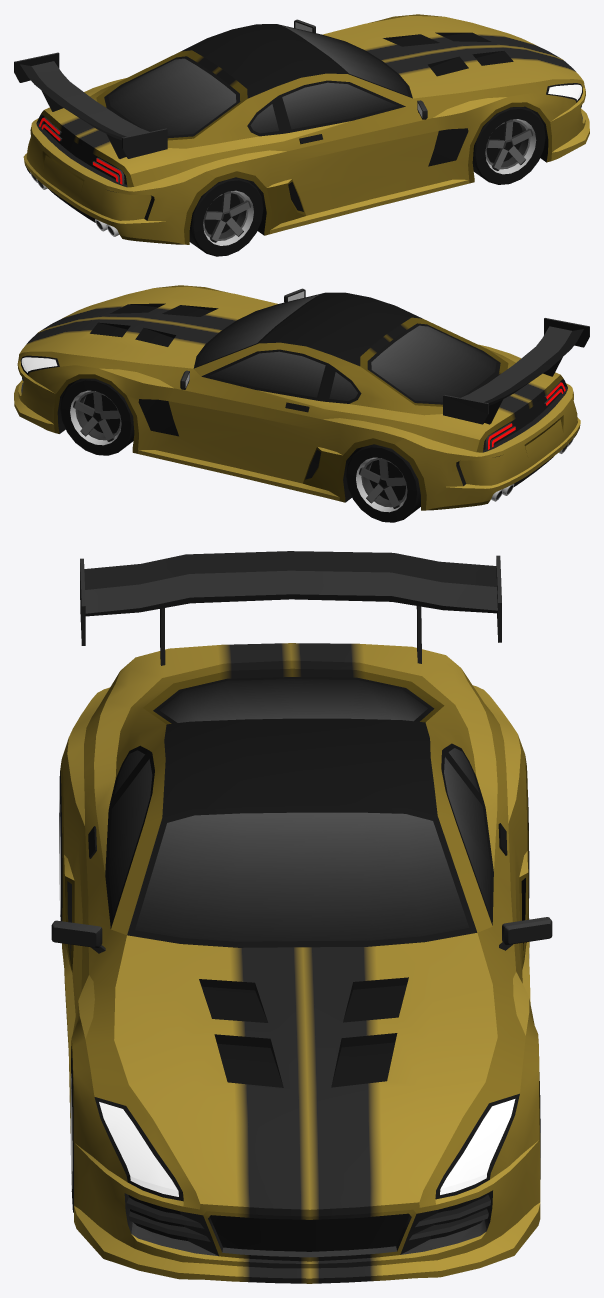
File: RaceCar_083.glb
3 views of the same model, one above another, from view 1: azimuth 30°, elevation 25°; view 2: azimuth 150°, elevation 25°; view 3: azimuth 270°, elevation 25° (orthographic). The views are drawn at different scales.
Parts seen in each view (by area): view 1: RaceCar_083, wheel_3_RaceCar_083_Wheel_3R, wheel_0_RaceCar_083_Wheel_1R; view 2: RaceCar_083, wheel_2_RaceCar_083_Wheel_3L, wheel_1_RaceCar_083_Wheel_2L; view 3: RaceCar_083.
Part boxes in pixels (box(x1,y1,x2,y2)): RaceCar_083: box(14, 14, 589, 244); wheel_3_RaceCar_083_Wheel_3R: box(189, 177, 263, 256); wheel_0_RaceCar_083_Wheel_1R: box(472, 106, 545, 184); RaceCar_083: box(14, 285, 589, 510); wheel_2_RaceCar_083_Wheel_3L: box(346, 444, 420, 522); wheel_1_RaceCar_083_Wheel_2L: box(60, 378, 134, 455); RaceCar_083: box(51, 551, 552, 1283).
Size of the model in its own units: 4.58 by 1.19 by 1.96.
Materials: 2 (2 with a texture image).
